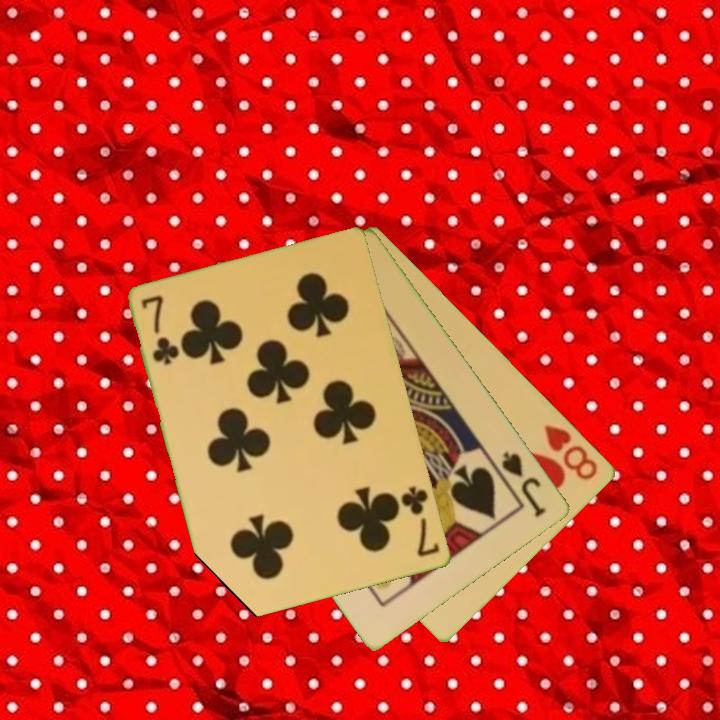7c: (398, 483, 443, 560), (138, 291, 182, 368)
8h: (540, 421, 601, 483)
Js: (498, 448, 550, 520)
